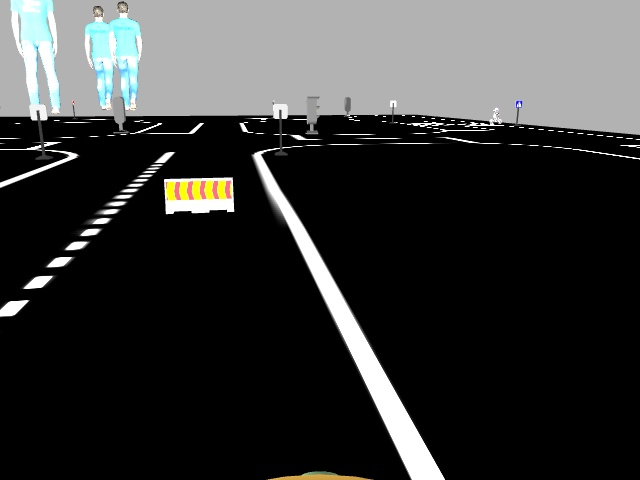ClosedRoadStand: (165, 179, 235, 212)
